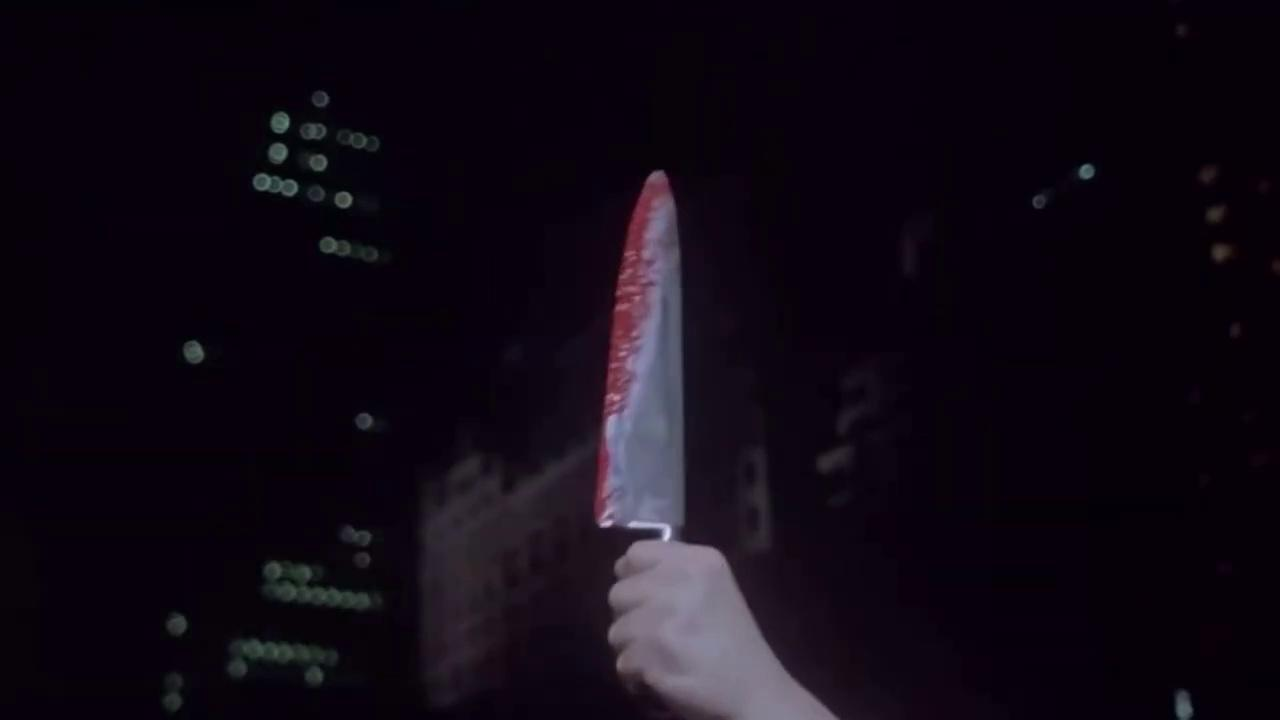Fire: (595, 170, 674, 526)
